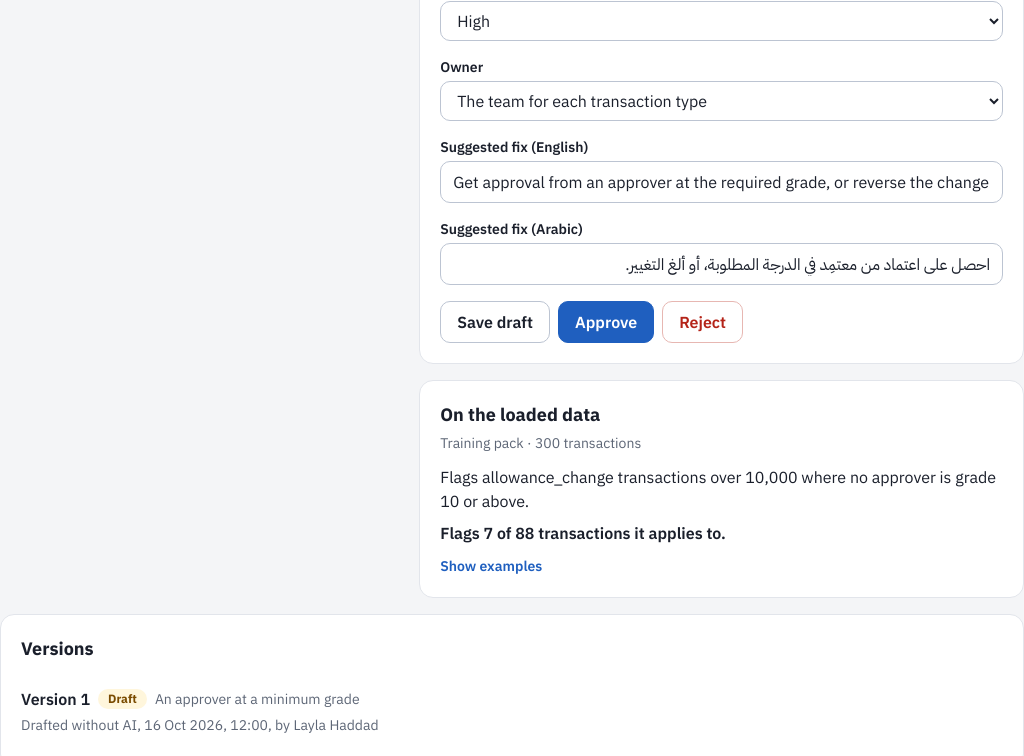
Test: RulePage › shows the policy text beside the drafted check, and says it was drafted without AI
(page scrolled)
Expected: the text "Flags allowance_change transactions over 10,000 where no approver is grade 10 or above." is shown, [440,467,996,511]
Expected: the text "Flags 7 of 88 transactions it applies to." is shown, [440,523,726,543]
Step 1. Click the button "Show examples" → {"x": 491, "y": 566}, box [440,556,542,576]
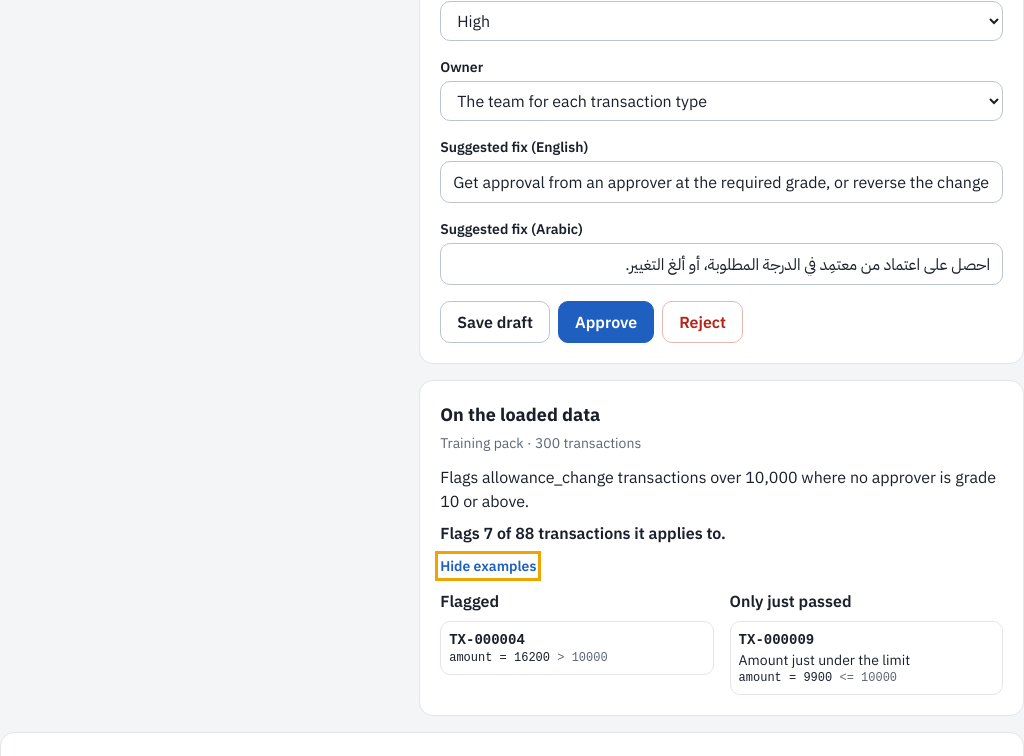
Expected: the text "TX-000004" is shown, [449,632,525,648]
Expected: the text "Amount just under the limit" is shown, [739,651,910,669]
